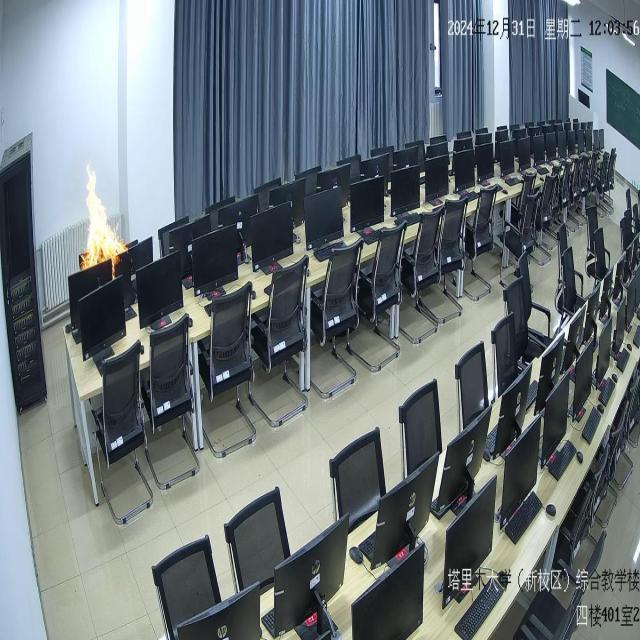smoke: (77, 158, 126, 273)
